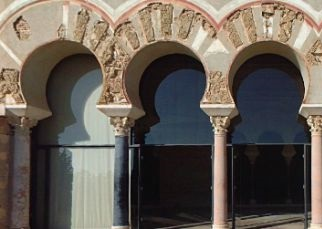arco-herradura: (10, 30, 120, 134), (120, 31, 220, 132), (221, 30, 319, 132)
